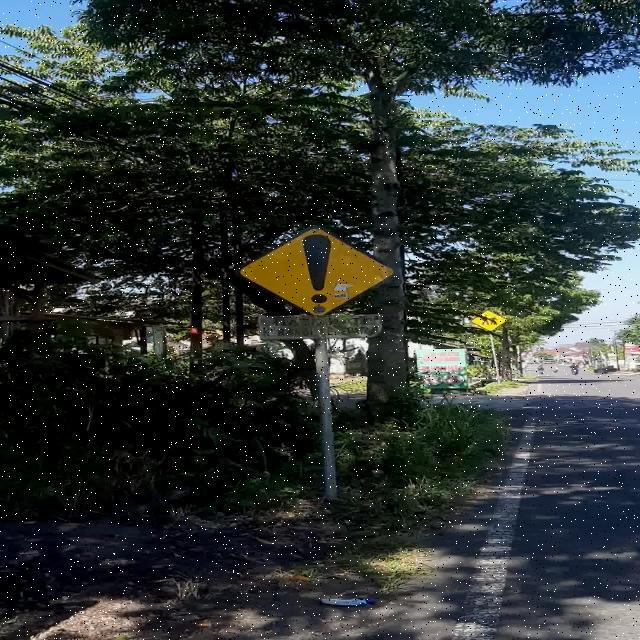Hati-Hati: (236, 224, 395, 316)
